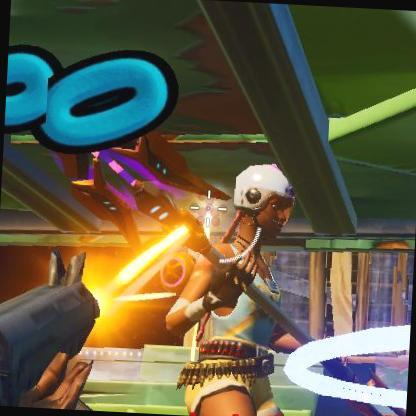person: (166, 160, 306, 353)
